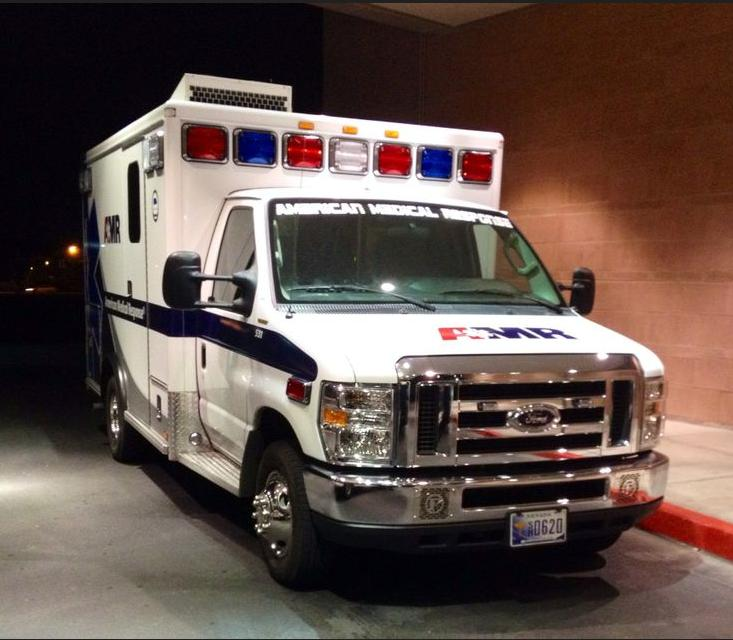ambulance_off: (76, 74, 670, 591)
